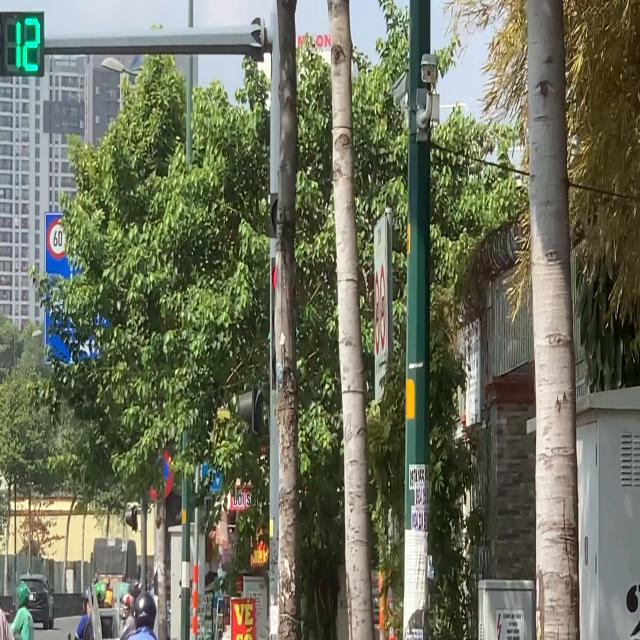Toc do toi da: (48, 214, 67, 266)
